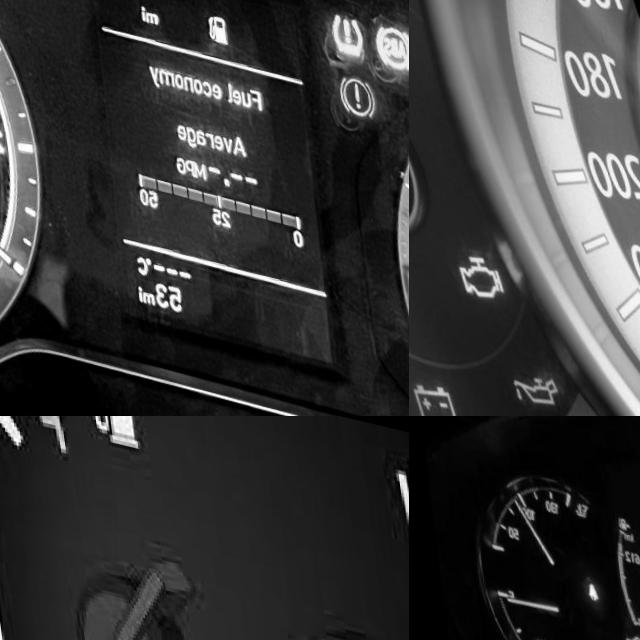Seat Belt: (576, 574, 592, 599)
